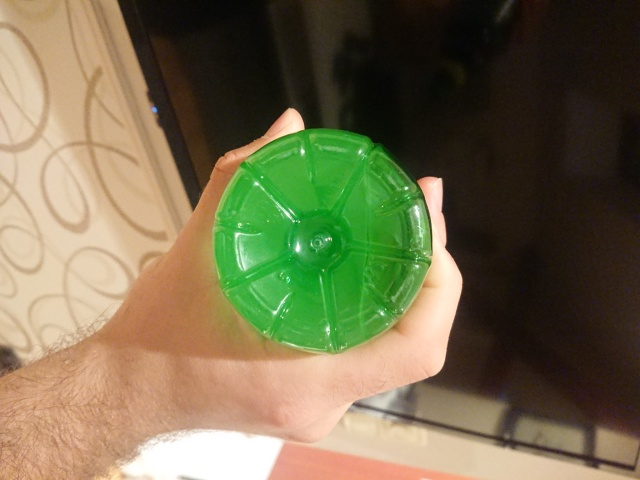Vindi Iso Sport Lemon-Grapefruit 500mL: (206, 124, 438, 359)
